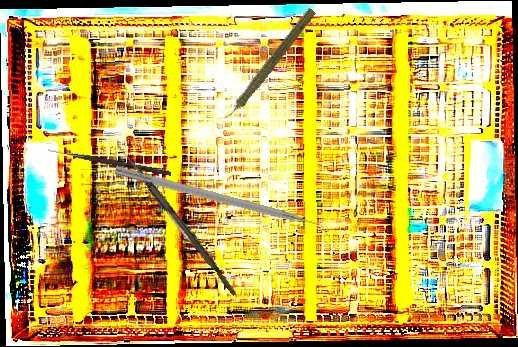Chopper: (111, 165, 336, 246)
Handpiece: (215, 3, 319, 129)
Hook Surgical: (47, 148, 172, 176)
Spatula Surgical: (136, 163, 218, 271)
Surgical Spoon: (113, 142, 241, 297)
